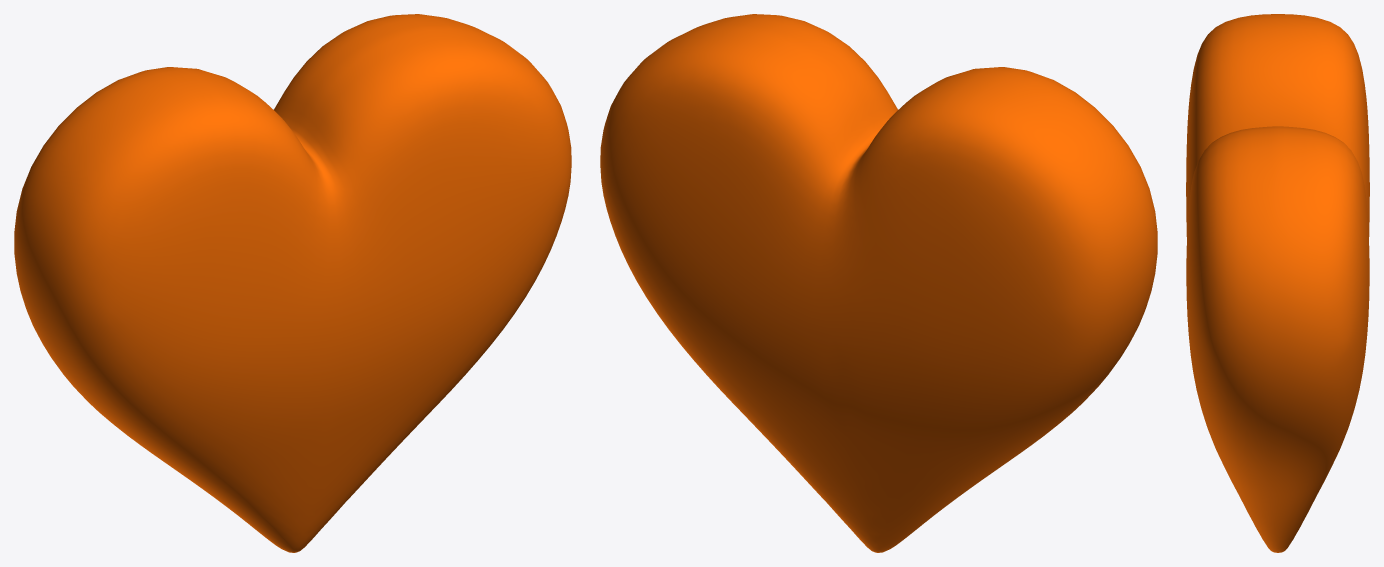
The model's file is orange_heart.glb.
3 renders of one model, left to right at view 1: azimuth 30°, elevation 25°; view 2: azimuth 150°, elevation 25°; view 3: azimuth 270°, elevation 25°, orthographic. The views are drawn at different scales.
Parts seen in each view (by area): view 1: hfdjkslfjkds.019; view 2: hfdjkslfjkds.019; view 3: hfdjkslfjkds.019.
Part boxes in pixels (left/top/right/bottom): hfdjkslfjkds.019: left=14, top=14, right=571, bottom=552; hfdjkslfjkds.019: left=600, top=14, right=1157, bottom=552; hfdjkslfjkds.019: left=1186, top=14, right=1369, bottom=552.
Size of the model in its own units: 1.86 by 1.68 by 0.5956.
Materials: 1 (1 with a texture image).
